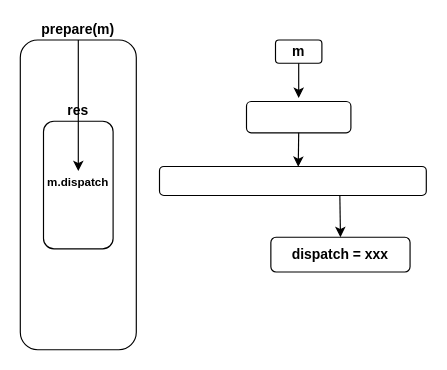
The diagram is 447 pixels wide and 370 high, and some of its shapes have lost their labels. The shapes that lost their labels are listed below. From the top down, each one's centre as x and y in pixels, then its label:
At pixel 298 116: "middlewareAPI".
At pixel 292 180: "{dispatch: (...args) => dispatch(...args)}".
